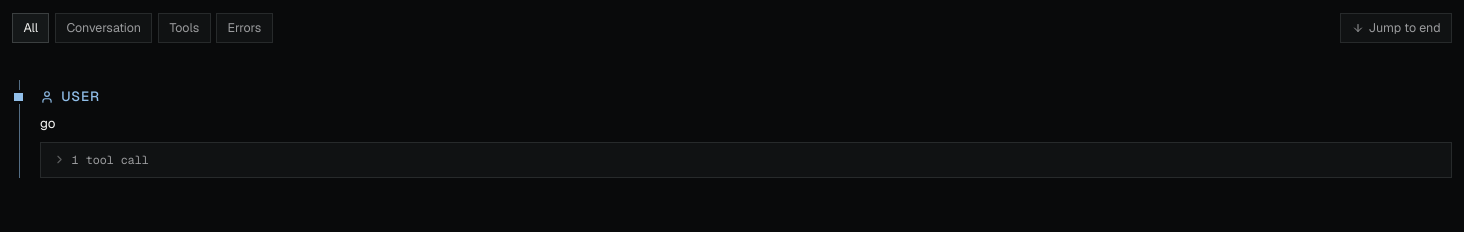
trajectory markers › an unparseable marker payload falls back to a tool row
The width and height of the screenshot is (1464, 232).
Click the button "1 tool call" at [110, 160], box [41, 143, 1451, 177]
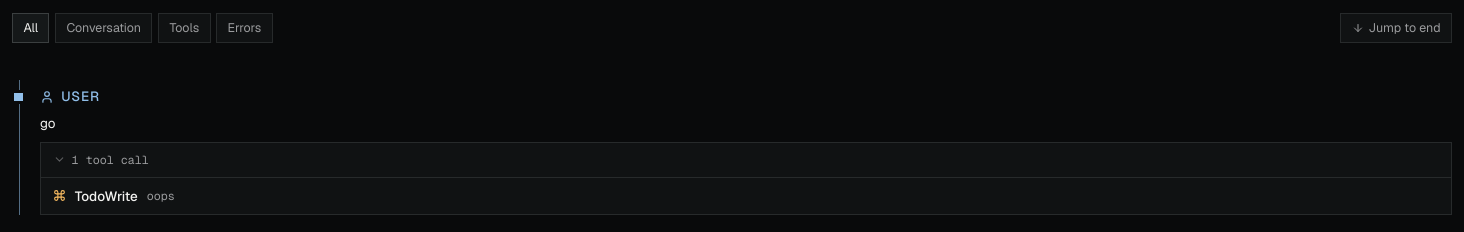
Expected: the text "TodoWrite" is shown, [75, 186, 138, 206]
